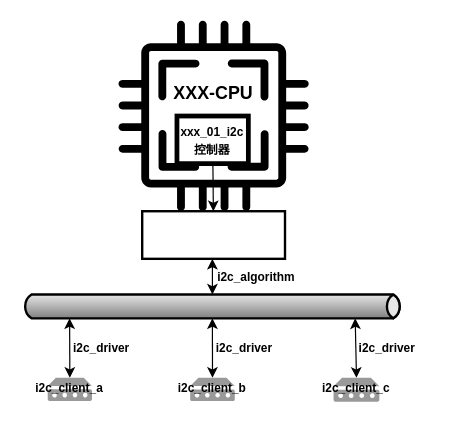
Image size: 450x421. Some labels were removed from this diagram. The centre of each missing label's shape, as x and y in pixels:
"I2C总线" belongs at (211,306).
"xxx_01_i2c_adapter" belongs at (213,234).
